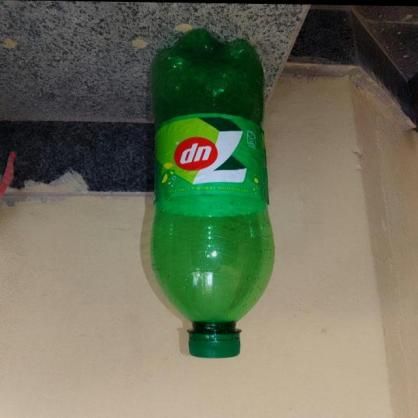bottle: (147, 28, 274, 361)
cap: (188, 328, 244, 358)
label: (155, 113, 266, 206)
